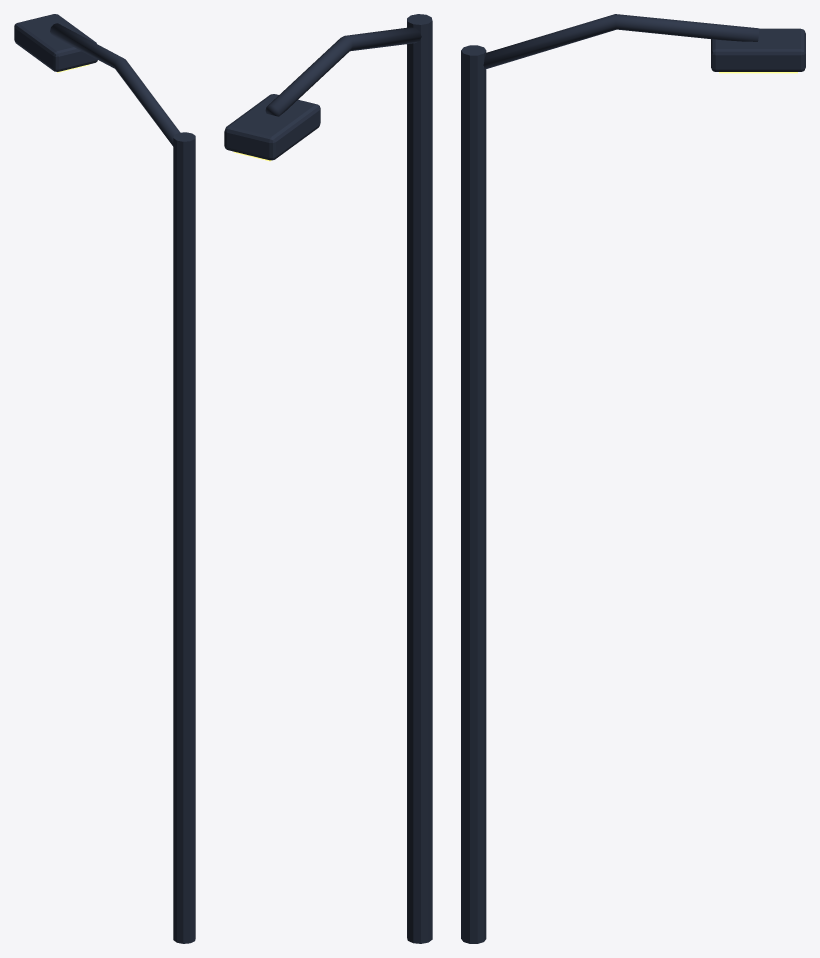
The model's file is street_lamp.glb.
3 renders of one model, left to right at view 1: azimuth 30°, elevation 25°; view 2: azimuth 150°, elevation 25°; view 3: azimuth 270°, elevation 25°, orthographic. The views are drawn at different scales.
Parts seen in each view (by area): view 1: street_lamp; view 2: street_lamp; view 3: street_lamp.
Boxes of the visible parts, box(x1,y1,x2,y2) form: street_lamp: box(14, 14, 195, 943); street_lamp: box(224, 14, 432, 943); street_lamp: box(461, 14, 805, 943).
Size of the model in its own units: 0.36 by 6.45 by 2.18.
